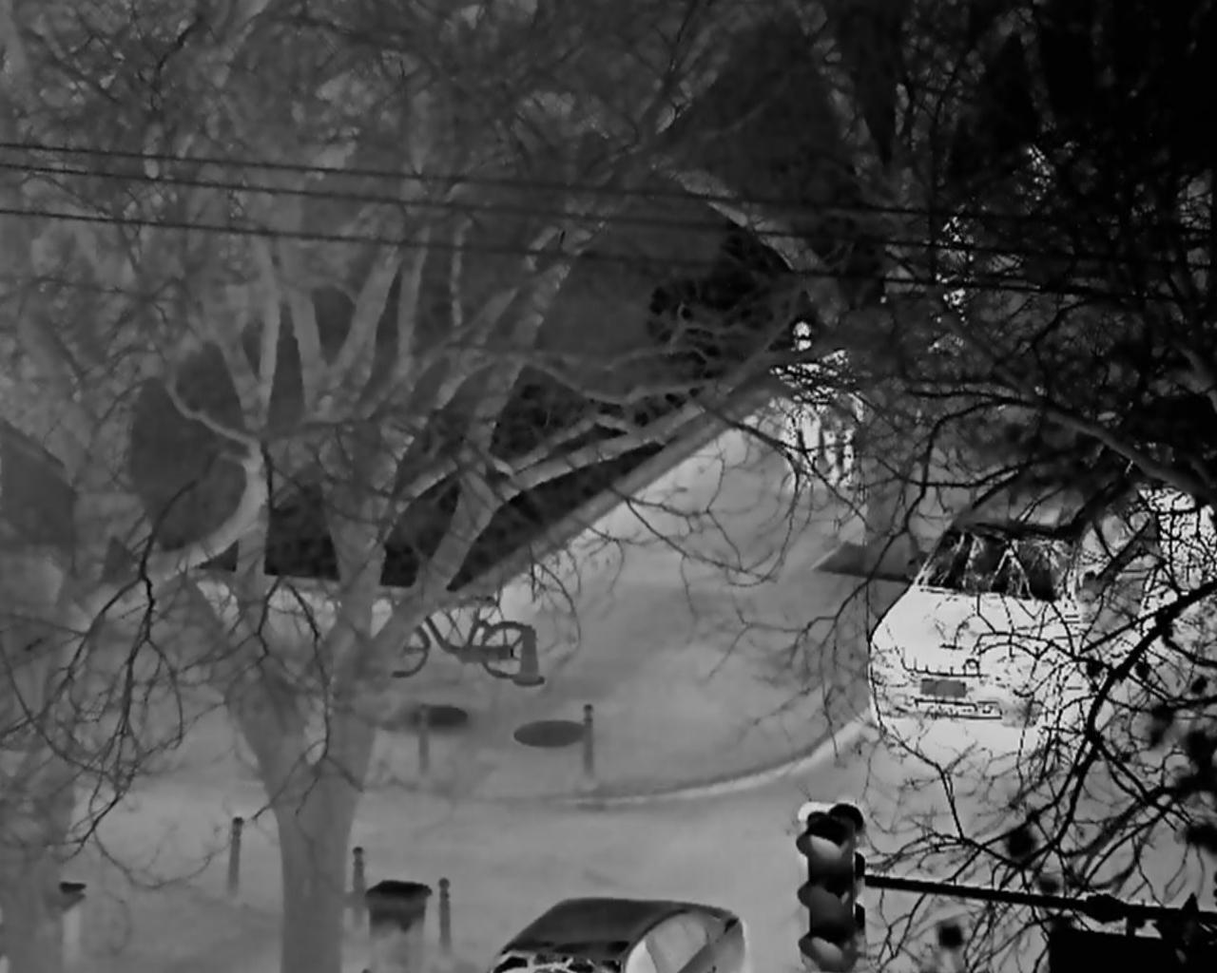person: (777, 322, 821, 493), (822, 382, 864, 488)
